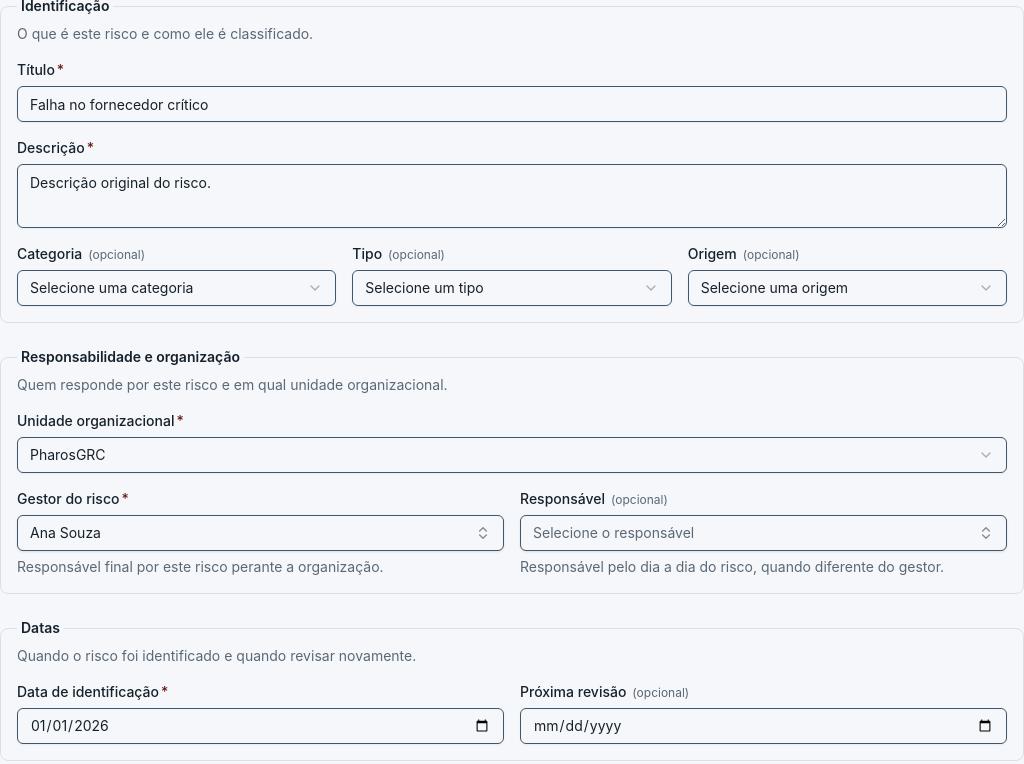
Test case: RiskForm › T099 — 409 conflict preserves the user’s entered values › "Salvar mesmo assim" resubmits the same in-form values against the current version, not a reloaded record
Replace the text in the field labelled "Título*" with "Título editado pelo usuário, ainda não salvo": (512, 104) [17,86,1007,122]
(page scrolled)
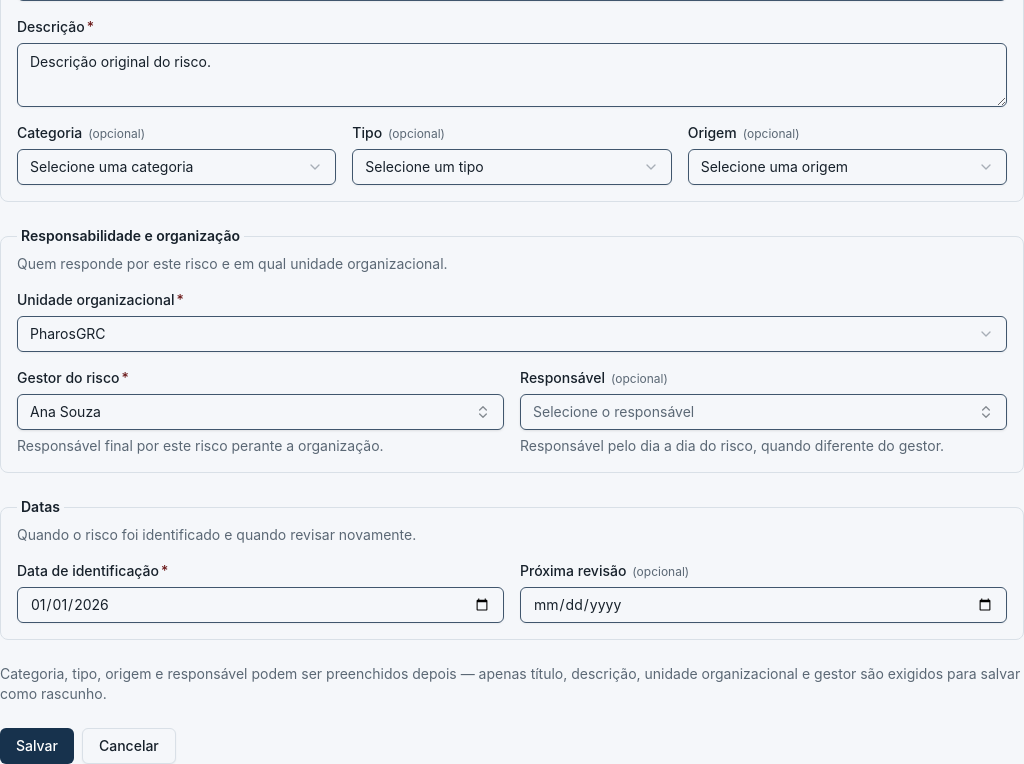
Click the button "Salvar": click(37, 746) [0,728,74,763]
(page scrolled)
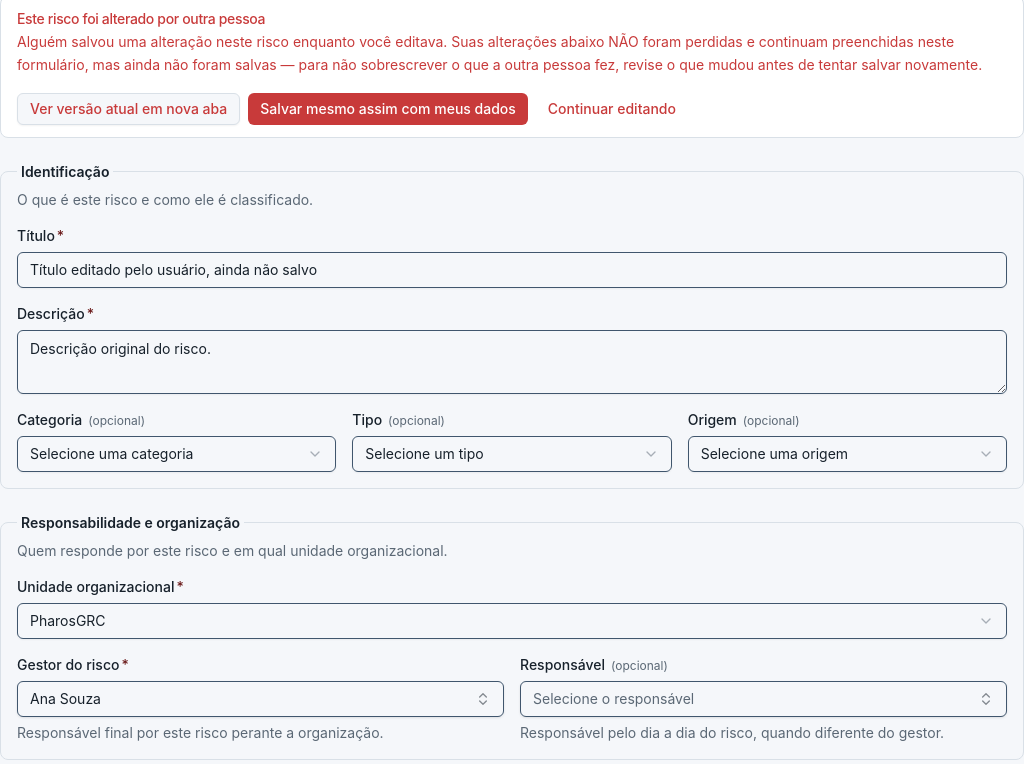
expect the text "Este risco foi alterado por outra pessoa" is shown: met, box [17,10,265,27]
Click the button "Salvar mesmo assim com meus dados": click(388, 108) [248,92,528,124]
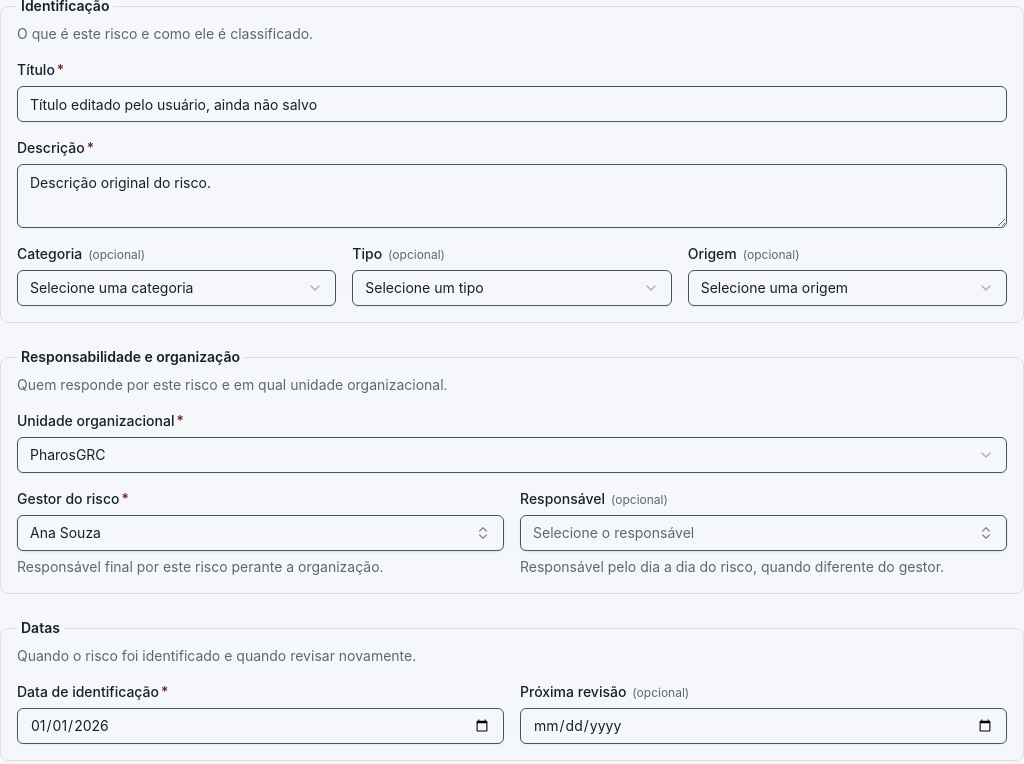
expect the text "Este risco foi alterado por outra pessoa" is gone: met
